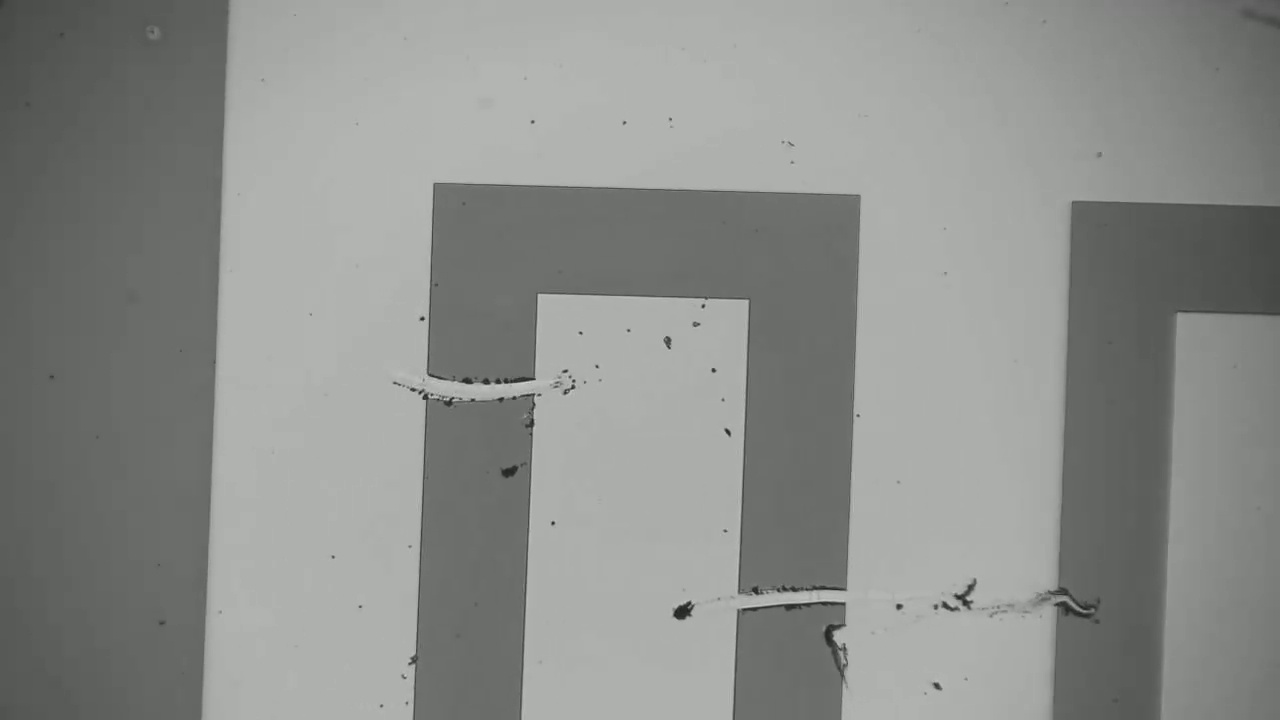Short_circuit: (386, 358, 554, 425), (717, 561, 871, 630)
